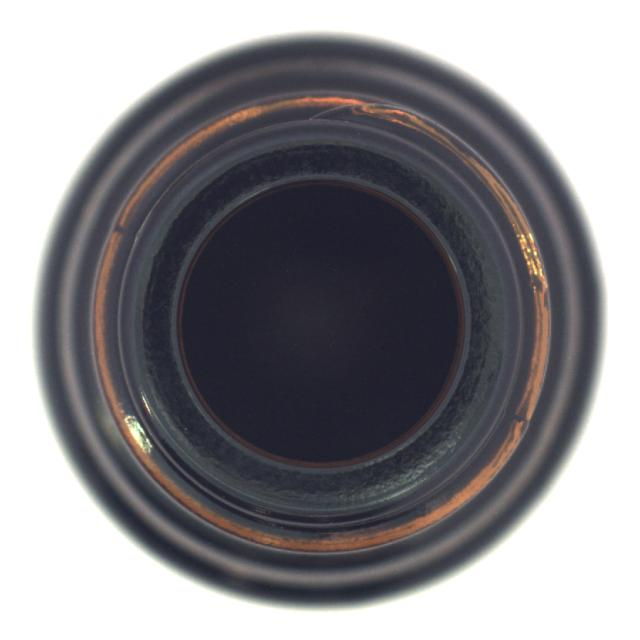bottle-good: (33, 32, 595, 606)
